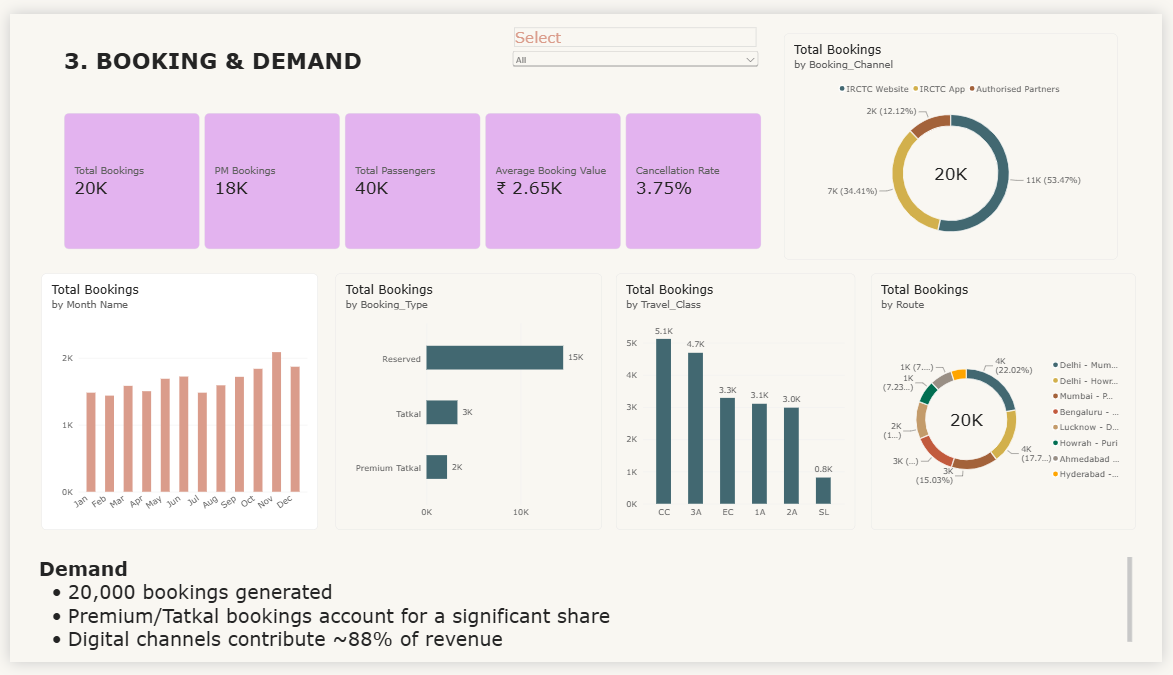

What the dashboard file says about the page in this screenshot:
{"tool":"powerbi","page":{"name":"Page 3","canvas":[1920,1080],"ordinal":2},"visuals":[{"type":"textbox","box":[90,55,732.5,127.5],"z":0},{"type":"cardVisual","fields":{"Data":["irctc_data.Total Bookings","irctc_data.PM Bookings","irctc_data.Total Passengers","irctc_data.Average Booking Value","irctc_data.Cancellation Rate"]},"box":[90,165,1162.5,227.5],"z":1000},{"type":"clusteredColumnChart","fields":{"Category":["Date Table.Month Name"],"Y":["irctc_data.Total Bookings"]},"box":[52.5,431.9,460.5,427.1],"z":2000},{"type":"donutChart","fields":{"Category":["irctc_data.Booking_Channel"],"Y":["irctc_data.Total Bookings"]},"box":[1290.8,33.4,555.9,377],"z":3000},{"type":"clusteredBarChart","fields":{"Category":["irctc_data.Booking_Type"],"Y":["irctc_data.Total Bookings"]},"box":[541.6,431.9,443.8,427.1],"z":4000},{"type":"columnChart","fields":{"Category":["irctc_data.Travel_Class"],"Y":["irctc_data.Total Bookings"]},"box":[1009.2,431.9,398.4,427.1],"z":5000},{"type":"donutChart","fields":{"Category":["irctc_data.Route"],"Y":["irctc_data.Total Bookings"]},"box":[1433.9,431.9,441.4,427.1],"z":6000},{"type":"textbox","box":[47.7,904.3,1822.8,176.6],"z":7000},{"type":"slicer","fields":{"Values":["Date Table.Year","Date Table.Month Name","irctc_data.Train_Name","irctc_data.Travel_Class","irctc_data.Booking_Channel","irctc_data.Railway Zone"]},"box":[833.4,22.7,419.5,99.2],"z":8000}]}

Visuals, with their boxes in screenshot pixels (x1, y1, x2, y2), scaled from the page's 1920x1080 canvas onto the 1173x675 screenshot:
textbox: (55,34,502,114)
cardVisual - irctc_data.Total Bookings x irctc_data.PM Bookings: (55,103,765,245)
clusteredColumnChart - Date Table.Month Name x irctc_data.Total Bookings: (32,270,313,537)
donutChart - irctc_data.Booking_Channel x irctc_data.Total Bookings: (789,21,1128,256)
clusteredBarChart - irctc_data.Booking_Type x irctc_data.Total Bookings: (331,270,602,537)
columnChart - irctc_data.Travel_Class x irctc_data.Total Bookings: (617,270,860,537)
donutChart - irctc_data.Route x irctc_data.Total Bookings: (876,270,1146,537)
textbox: (29,565,1143,674)
slicer - Date Table.Year x Date Table.Month Name: (509,14,765,76)
